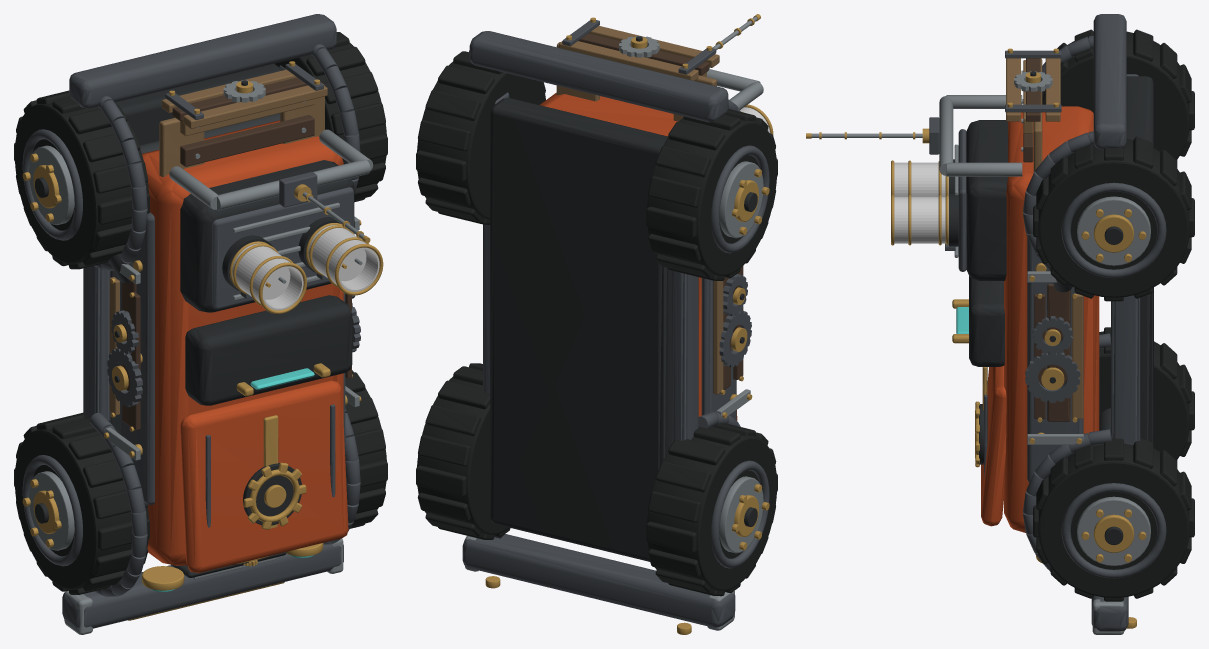
The model's file is IronTeethRcCar_V2.obj.
3 renders of one model, left to right at view 1: azimuth 30°, elevation 25°; view 2: azimuth 150°, elevation 25°; view 3: azimuth 270°, elevation 25°, orthographic. The views are drawn at different scales.
Parts seen in each view (by area): view 1: Sloped_bonnet_IronTeeth_RustOrange, Armored_body_tub_IronTeeth_RustOrange, Dashboard_cowl_IronTeeth_Charcoal, Rear_forged_bumper_IronTeeth_Gunmetal, Front_forged_bumper_IronTeeth_Gunmetal, Rear_tyre_IronTeeth_Rubber, Front_tyre_IronTeeth_Rubber, Rear_gearbox_housing_IronTeeth_Charcoal, Gearbox_top_plate_IronTeeth_Gunmetal, Side_armour_plate_IronTeeth_Gunmetal, Frame_side_rail_IronTeeth_Gunmetal, Ladder_chassis_IronTeeth_Charcoal (+59 smaller); view 2: Ladder_chassis_IronTeeth_Charcoal, Front_forged_bumper_IronTeeth_Gunmetal, Rear_forged_bumper_IronTeeth_Gunmetal, Rear_tyre_IronTeeth_Rubber, Front_tyre_IronTeeth_Rubber, Rear_tyre.001_IronTeeth_Rubber, Front_tyre.001_IronTeeth_Rubber, Frame_side_rail_IronTeeth_Gunmetal, Armored_body_tub_IronTeeth_RustOrange, Side_armour_plate_IronTeeth_Gunmetal, Rear_wheel_rim_IronTeeth_Gunmetal, Front_wheel_rim_IronTeeth_Gunmetal (+38 smaller); view 3: Armored_body_tub_IronTeeth_RustOrange, Rear_tyre.001_IronTeeth_Rubber, Front_tyre.001_IronTeeth_Rubber, Rear_gearbox_housing_IronTeeth_Charcoal, Rear_tyre_IronTeeth_Rubber, Rear_forged_bumper_IronTeeth_Gunmetal, Frame_side_rail.001_IronTeeth_Gunmetal, Ladder_chassis_IronTeeth_Charcoal, Front_tyre_IronTeeth_Rubber, Sloped_bonnet_IronTeeth_RustOrange, Side_armour_plate.001_IronTeeth_Gunmetal, Dashboard_cowl_IronTeeth_Charcoal (+24 smaller).
Boxes of the visible parts, x1,y1,x2,y2 form: Sloped_bonnet_IronTeeth_RustOrange: (180,380,348,573); Armored_body_tub_IronTeeth_RustOrange: (142,120,343,565); Dashboard_cowl_IronTeeth_Charcoal: (185,295,352,405); Rear_forged_bumper_IronTeeth_Gunmetal: (69,14,336,108); Front_forged_bumper_IronTeeth_Gunmetal: (62,544,343,628); Rear_tyre_IronTeeth_Rubber: (14,103,148,264); Front_tyre_IronTeeth_Rubber: (14,428,148,589); Rear_gearbox_housing_IronTeeth_Charcoal: (180,160,354,312); Gearbox_top_plate_IronTeeth_Gunmetal: (212,187,353,309); Side_armour_plate_IronTeeth_Gunmetal: (120,212,154,504); Frame_side_rail_IronTeeth_Gunmetal: (83,266,110,421); Ladder_chassis_IronTeeth_Charcoal: (110,63,282,432); Ladder_chassis_IronTeeth_Charcoal: (490,98,672,561); Front_forged_bumper_IronTeeth_Gunmetal: (462,534,735,627); Rear_forged_bumper_IronTeeth_Gunmetal: (469,31,728,122); Rear_tyre_IronTeeth_Rubber: (647,117,777,276); Front_tyre_IronTeeth_Rubber: (647,435,777,591); Rear_tyre.001_IronTeeth_Rubber: (417,61,545,219); Front_tyre.001_IronTeeth_Rubber: (417,376,508,535); Frame_side_rail_IronTeeth_Gunmetal: (672,271,698,442); Armored_body_tub_IronTeeth_RustOrange: (540,92,701,416); Side_armour_plate_IronTeeth_Gunmetal: (701,278,736,419); Rear_wheel_rim_IronTeeth_Gunmetal: (711,145,769,253); Front_wheel_rim_IronTeeth_Gunmetal: (711,460,769,568); Armored_body_tub_IronTeeth_RustOrange: (1004,106,1099,532); Rear_tyre.001_IronTeeth_Rubber: (1038,138,1189,297); Front_tyre.001_IronTeeth_Rubber: (1038,443,1189,597); Rear_gearbox_housing_IronTeeth_Charcoal: (966,120,1007,280); Rear_tyre_IronTeeth_Rubber: (1042,31,1189,160); Rear_forged_bumper_IronTeeth_Gunmetal: (1093,14,1126,149); Frame_side_rail.001_IronTeeth_Gunmetal: (1111,295,1140,445); Ladder_chassis_IronTeeth_Charcoal: (1126,76,1153,447); Front_tyre_IronTeeth_Rubber: (1099,331,1189,460); Sloped_bonnet_IronTeeth_RustOrange: (981,366,1006,526); Side_armour_plate.001_IronTeeth_Gunmetal: (1027,237,1083,482); Dashboard_cowl_IronTeeth_Charcoal: (969,276,1004,366).
Size of the model in its own units: 0.882 by 1.45 by 0.9975.
